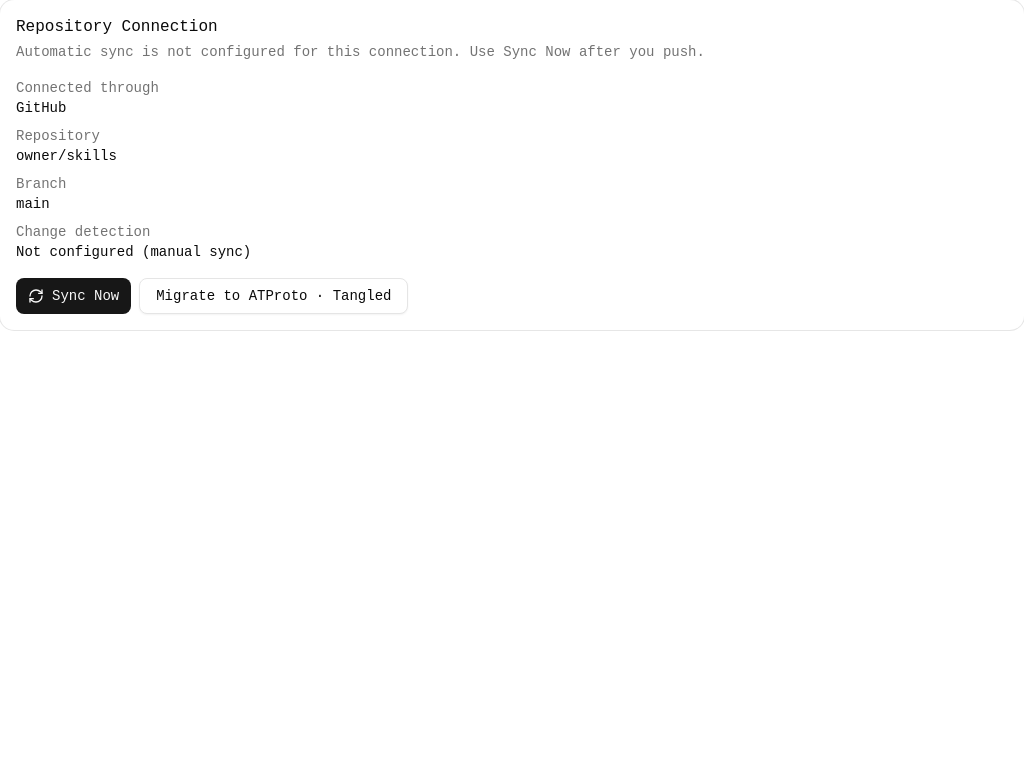
Test: RepoConnectionSection GitHub access › opens the ATProto destination and cancels without changing the GitHub connection
Later steps or results of the test are not shown.
Click the button "Migrate to ATProto · Tangled": (274, 296) [139,278,408,314]
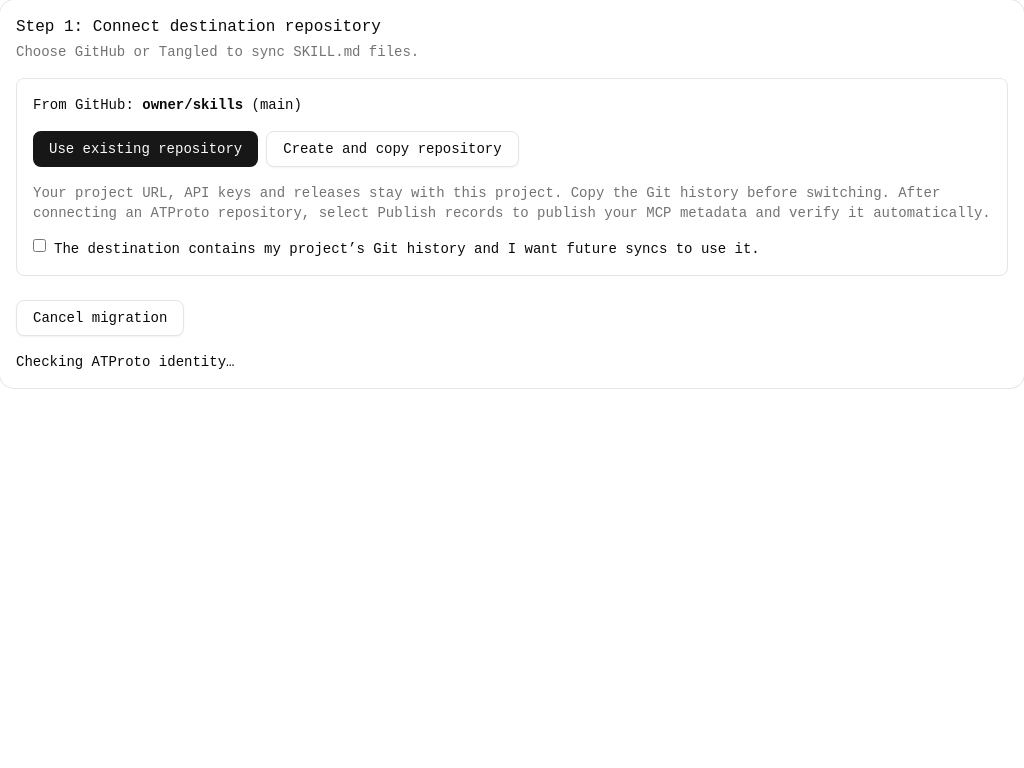
Expected: the button "Create and copy repository" is shown
Click the button "Create and copy repository": (392, 149) [266,131,519,167]
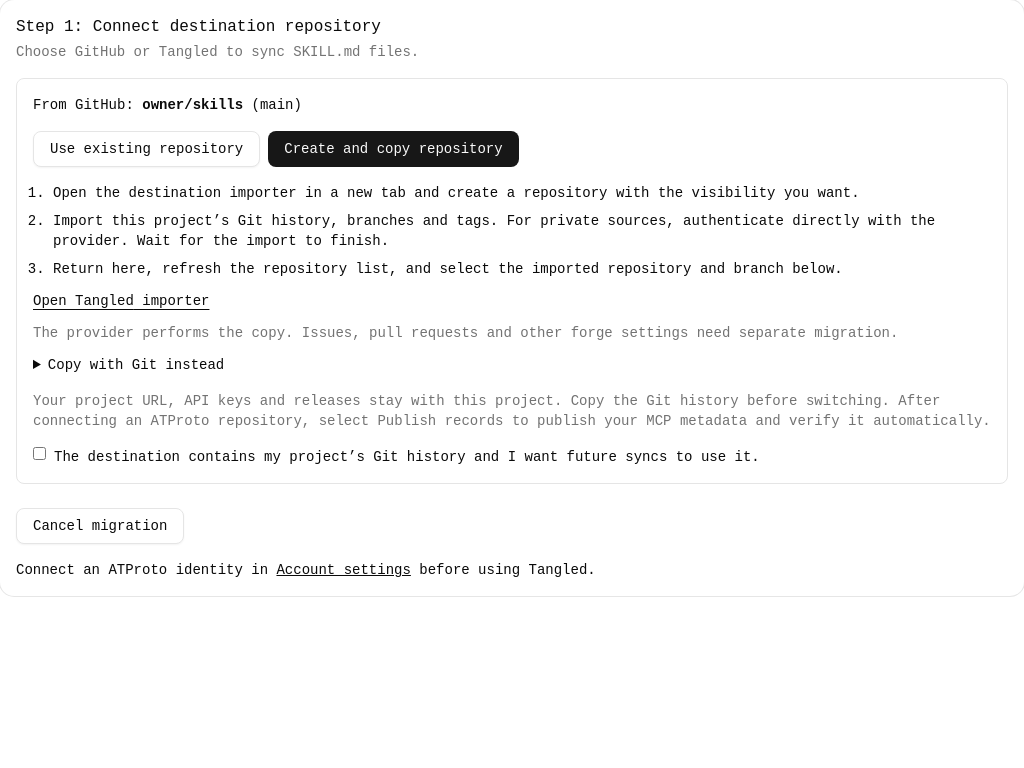
Expected: the button "Cancel migration" is shown, [16,508,184,544]
Expected: the link to "https://tangled.org/repo/migrate" is shown, [33,291,210,311]
